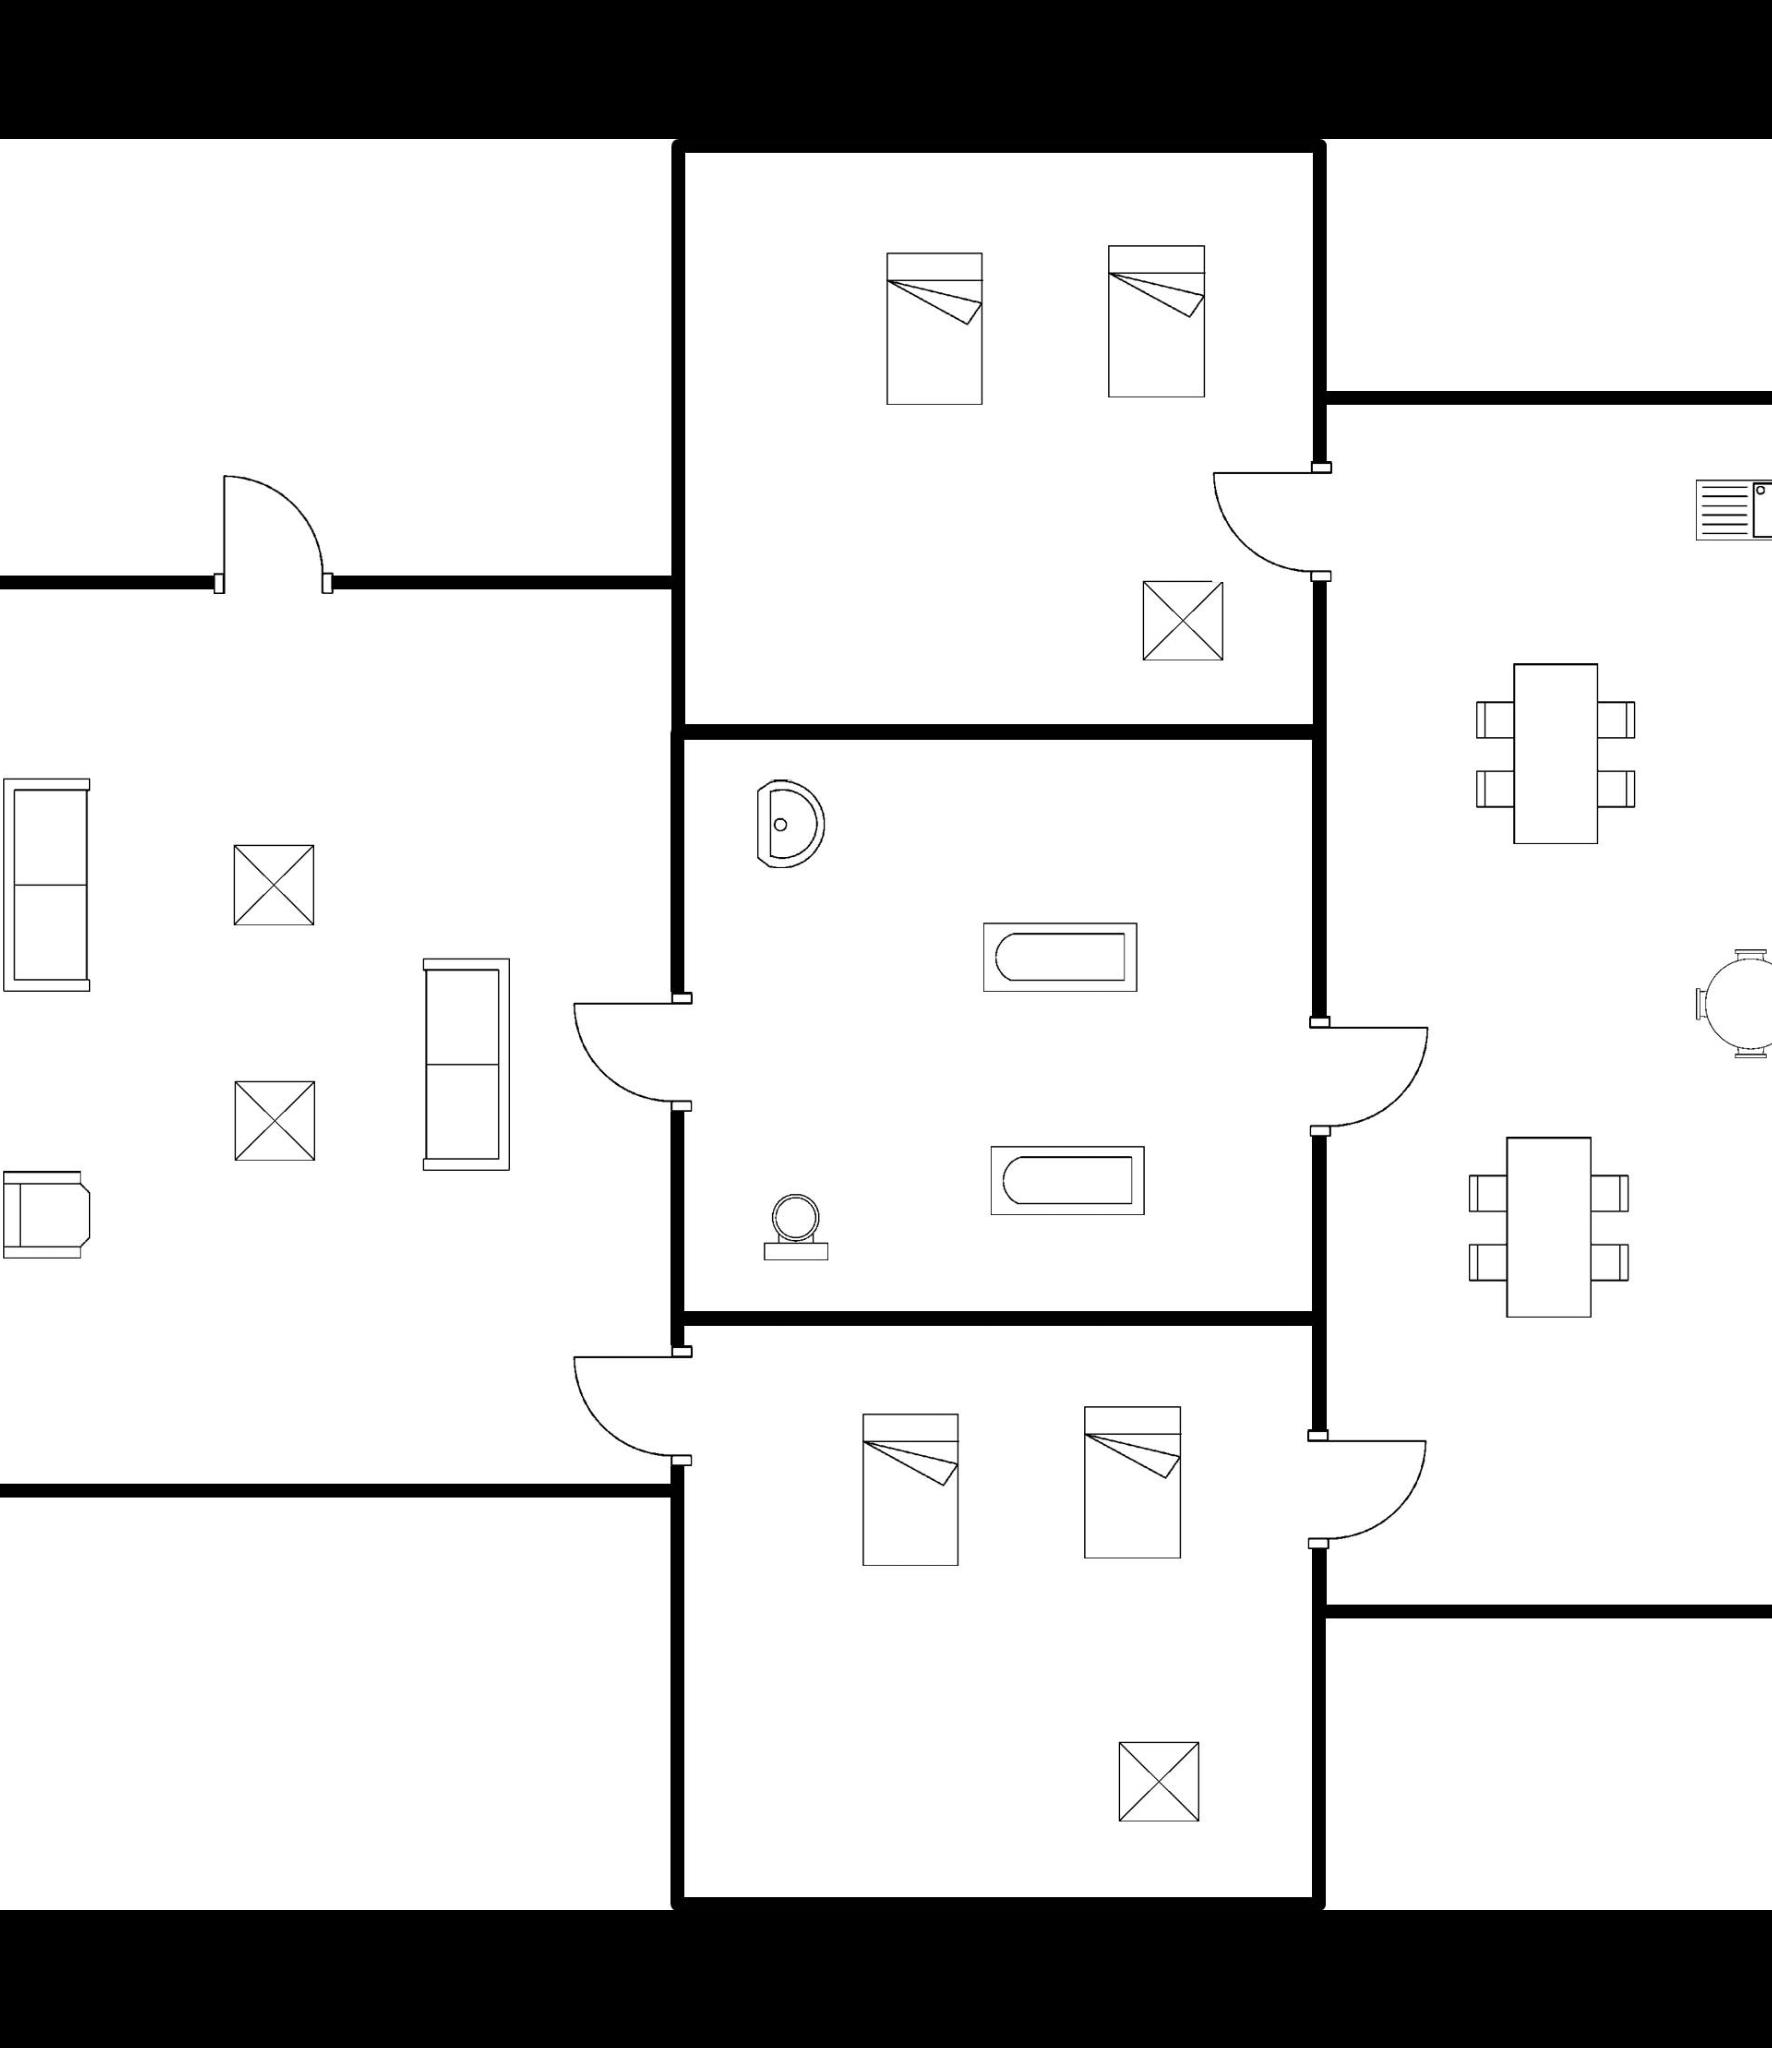bed: (1069, 1384, 1203, 1574), (849, 1398, 971, 1583), (879, 233, 1001, 414), (1095, 230, 1217, 409)
dining_table: (1453, 646, 1647, 862), (1453, 1123, 1641, 1332)
round_table: (1680, 935, 1772, 1068)
sink: (1680, 461, 1772, 554)
sofa: (409, 942, 520, 1193), (0, 759, 106, 1008)
toilet: (750, 1182, 842, 1275)
tub: (968, 904, 1147, 1001), (977, 1128, 1151, 1223)
